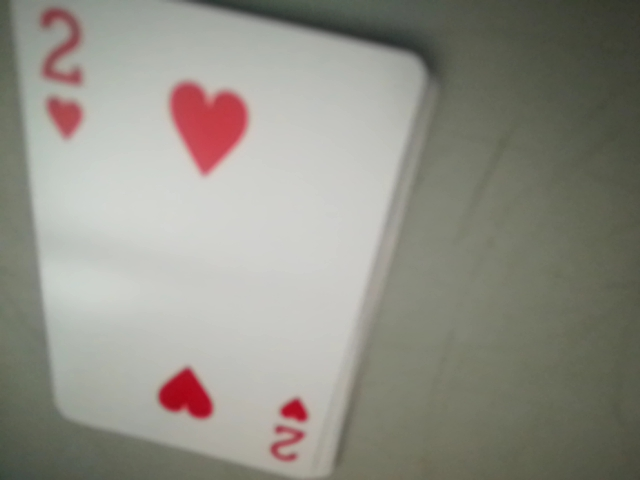hx 2: (264, 398, 321, 473)
